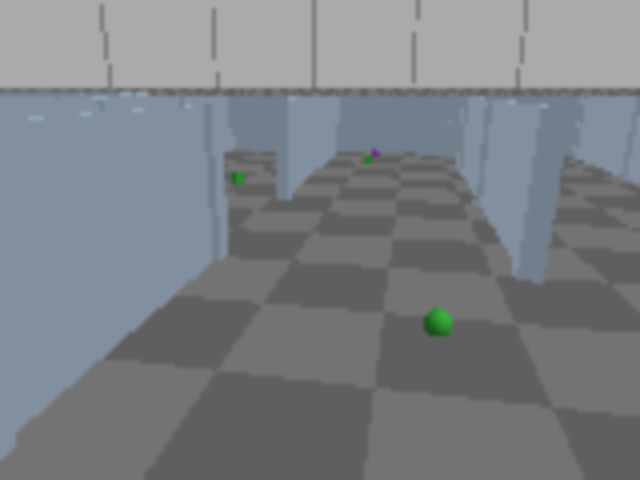puck: (417, 301, 461, 346)
